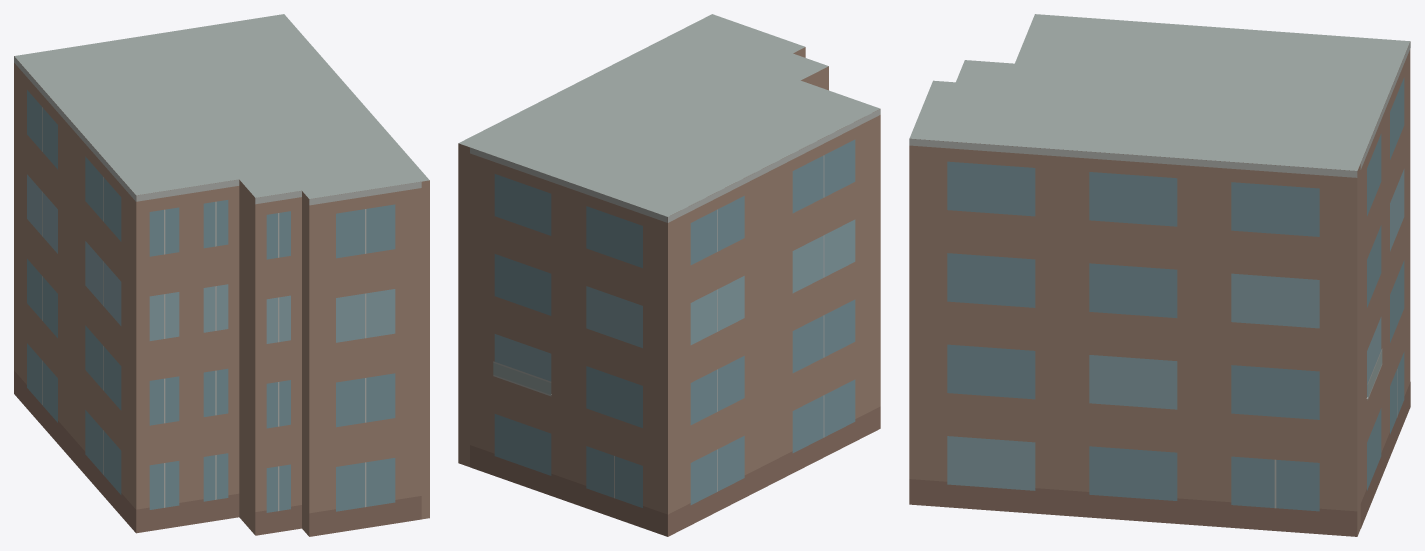
File: survey-upis-32475570.glb
3 views of the same model, side by side, from view 1: azimuth 30°, elevation 25°; view 2: azimuth 150°, elevation 25°; view 3: azimuth 270°, elevation 25° (orthographic). The views are drawn at different scales.
Parts seen in each view (by area): view 1: survey-upis-32475570.tmp; view 2: survey-upis-32475570.tmp; view 3: survey-upis-32475570.tmp.
Part boxes in pixels (x1,y1,x2,y2): survey-upis-32475570.tmp: (14, 14, 429, 536); survey-upis-32475570.tmp: (458, 14, 880, 536); survey-upis-32475570.tmp: (909, 14, 1410, 536).
Size of the model in its own units: 11.88 by 12.9 by 16.02.
